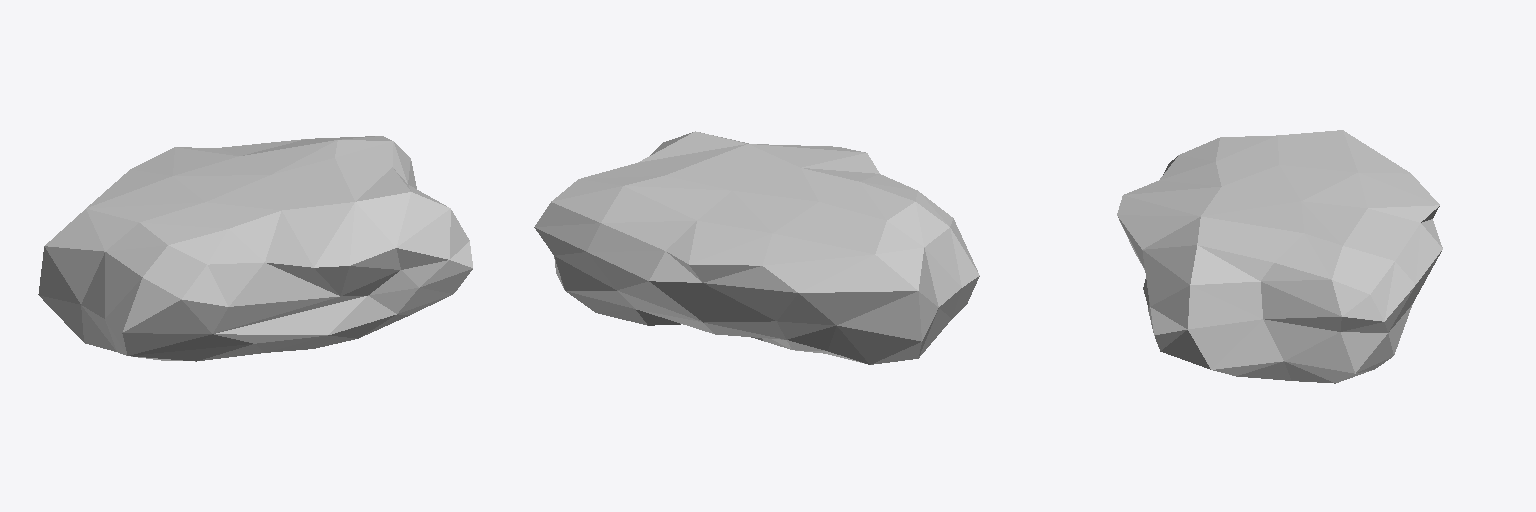
The model's file is rock-3-m.obj.
3 views of the same model, side by side, from view 1: azimuth 30°, elevation 25°; view 2: azimuth 150°, elevation 25°; view 3: azimuth 270°, elevation 25° (orthographic).
Parts seen in each view (by area): view 1: Rock1_Mesh2; view 2: Rock1_Mesh2; view 3: Rock1_Mesh2.
Part boxes in pixels (x1,y1,x2,y2): Rock1_Mesh2: (38, 136, 472, 361); Rock1_Mesh2: (534, 131, 979, 364); Rock1_Mesh2: (1117, 130, 1442, 383).
Bounding box in the file's own units: 0.4775 × 0.1684 × 0.3628.